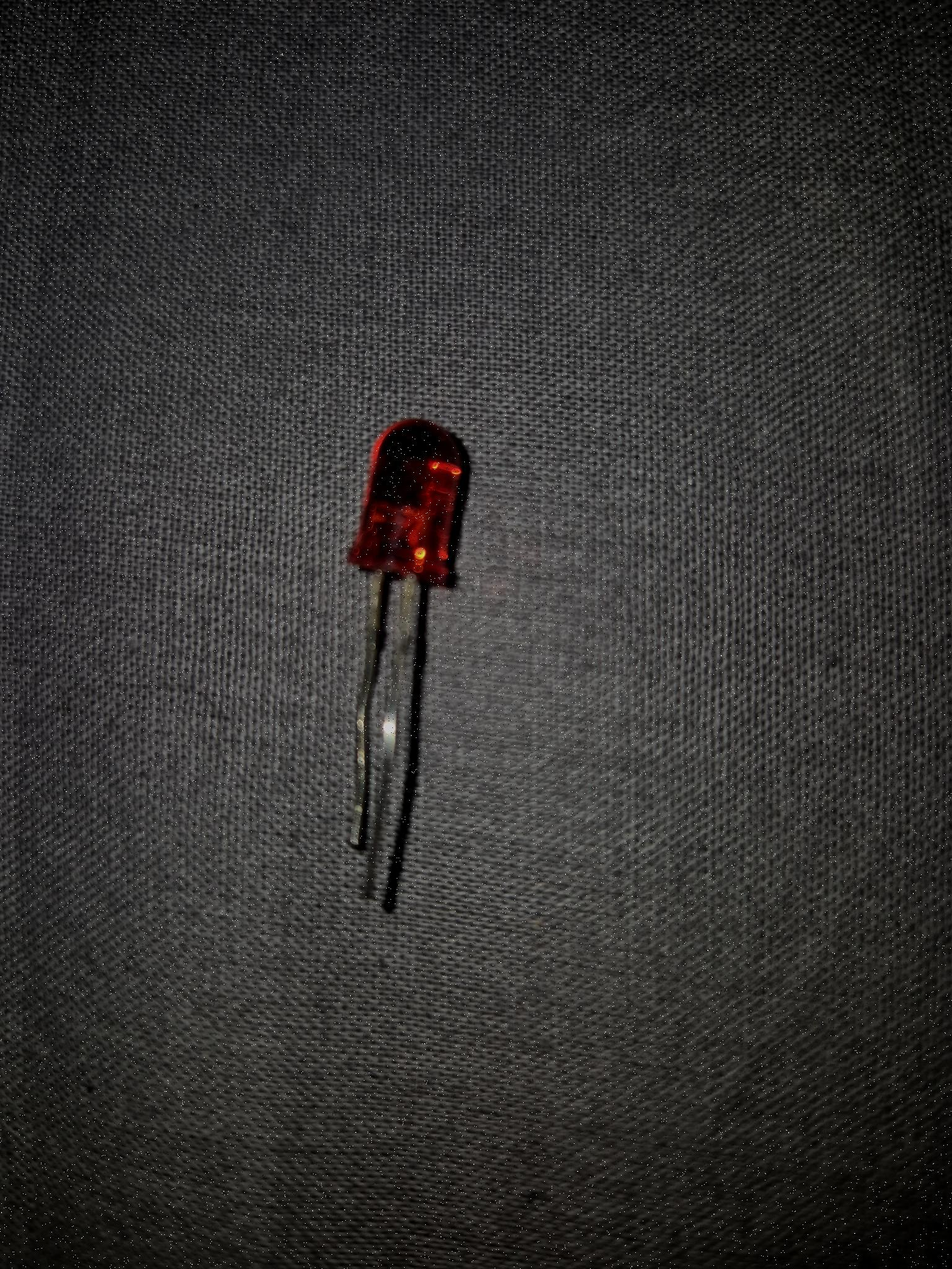led-diode: (348, 419, 470, 910)
